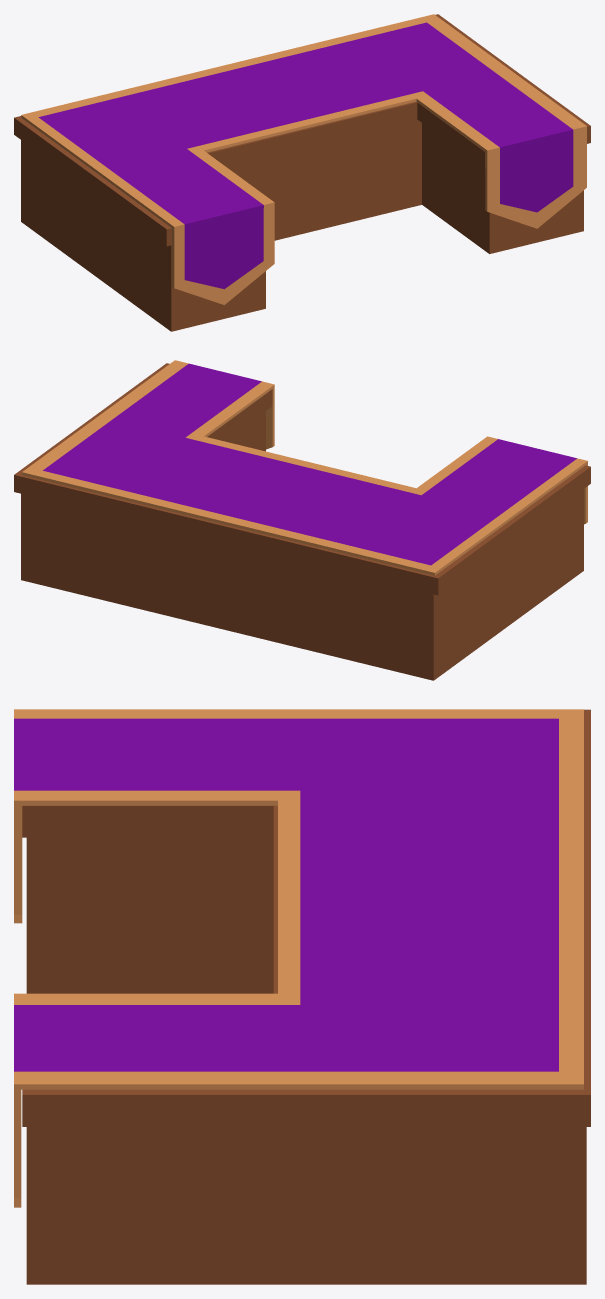
Rendered from table01.fbx.
3 renders of one model, top to bottom at view 1: azimuth 30°, elevation 25°; view 2: azimuth 150°, elevation 25°; view 3: azimuth 270°, elevation 25°, orthographic. The views are drawn at different scales.
Visible parts, largest first — view 1: Table; view 2: Table; view 3: Table.
Boxes of the visible parts, x1,y1,x2,y2 form: Table: (14,14,590,331); Table: (14,360,590,680); Table: (14,709,590,1284).
Size of the model in its own units: 399 by 96.55 by 252.
